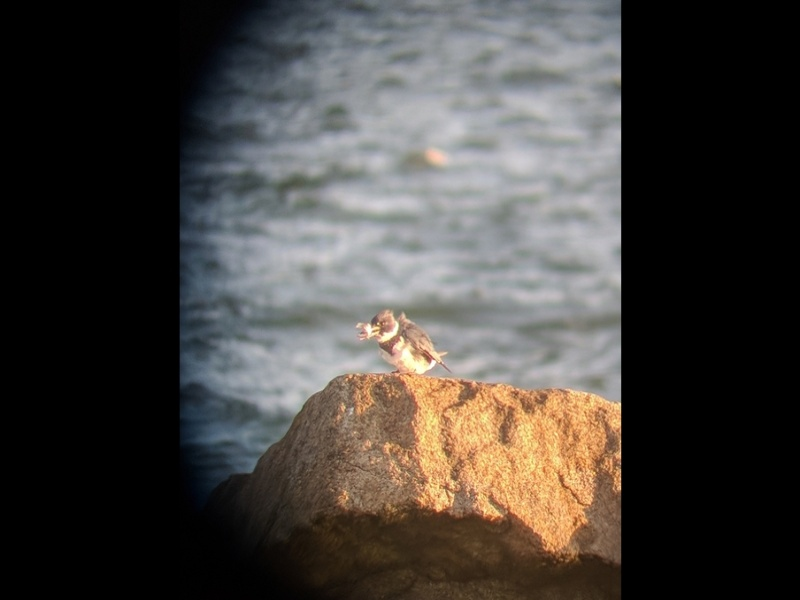kingfisher: (362, 309, 448, 376)
